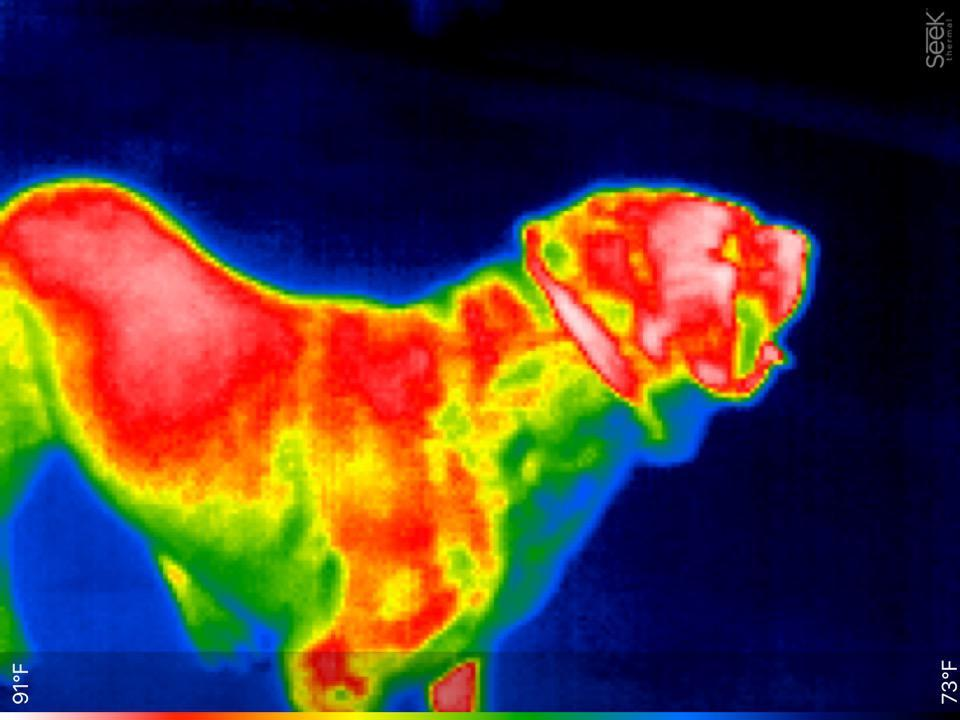dog: (3, 163, 830, 711)
